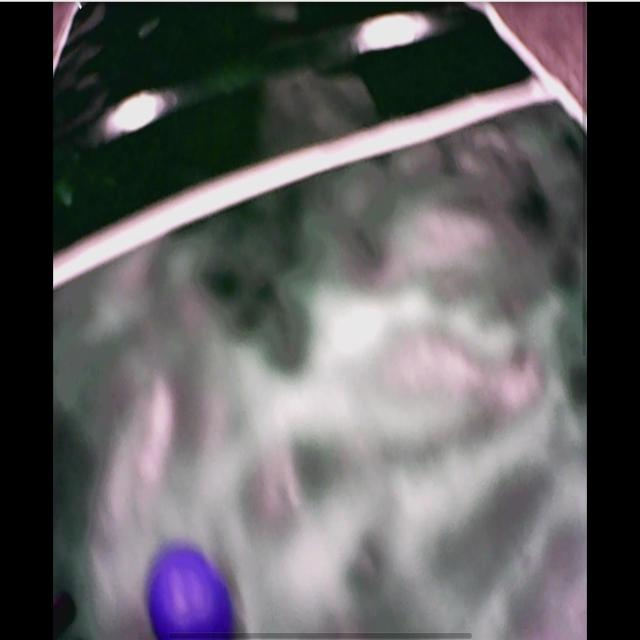ball: (146, 546, 231, 640)
